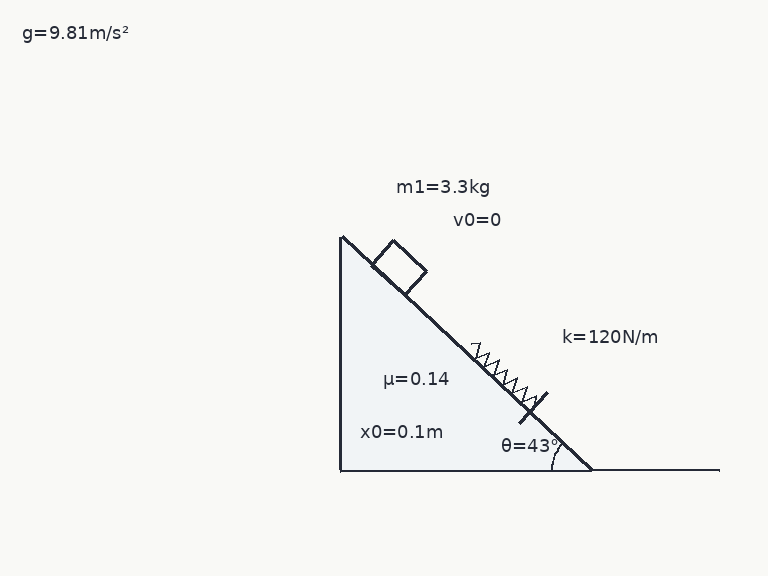block: (370, 239, 428, 297)
ramp: (340, 235, 594, 472)
spring: (469, 342, 538, 407)
